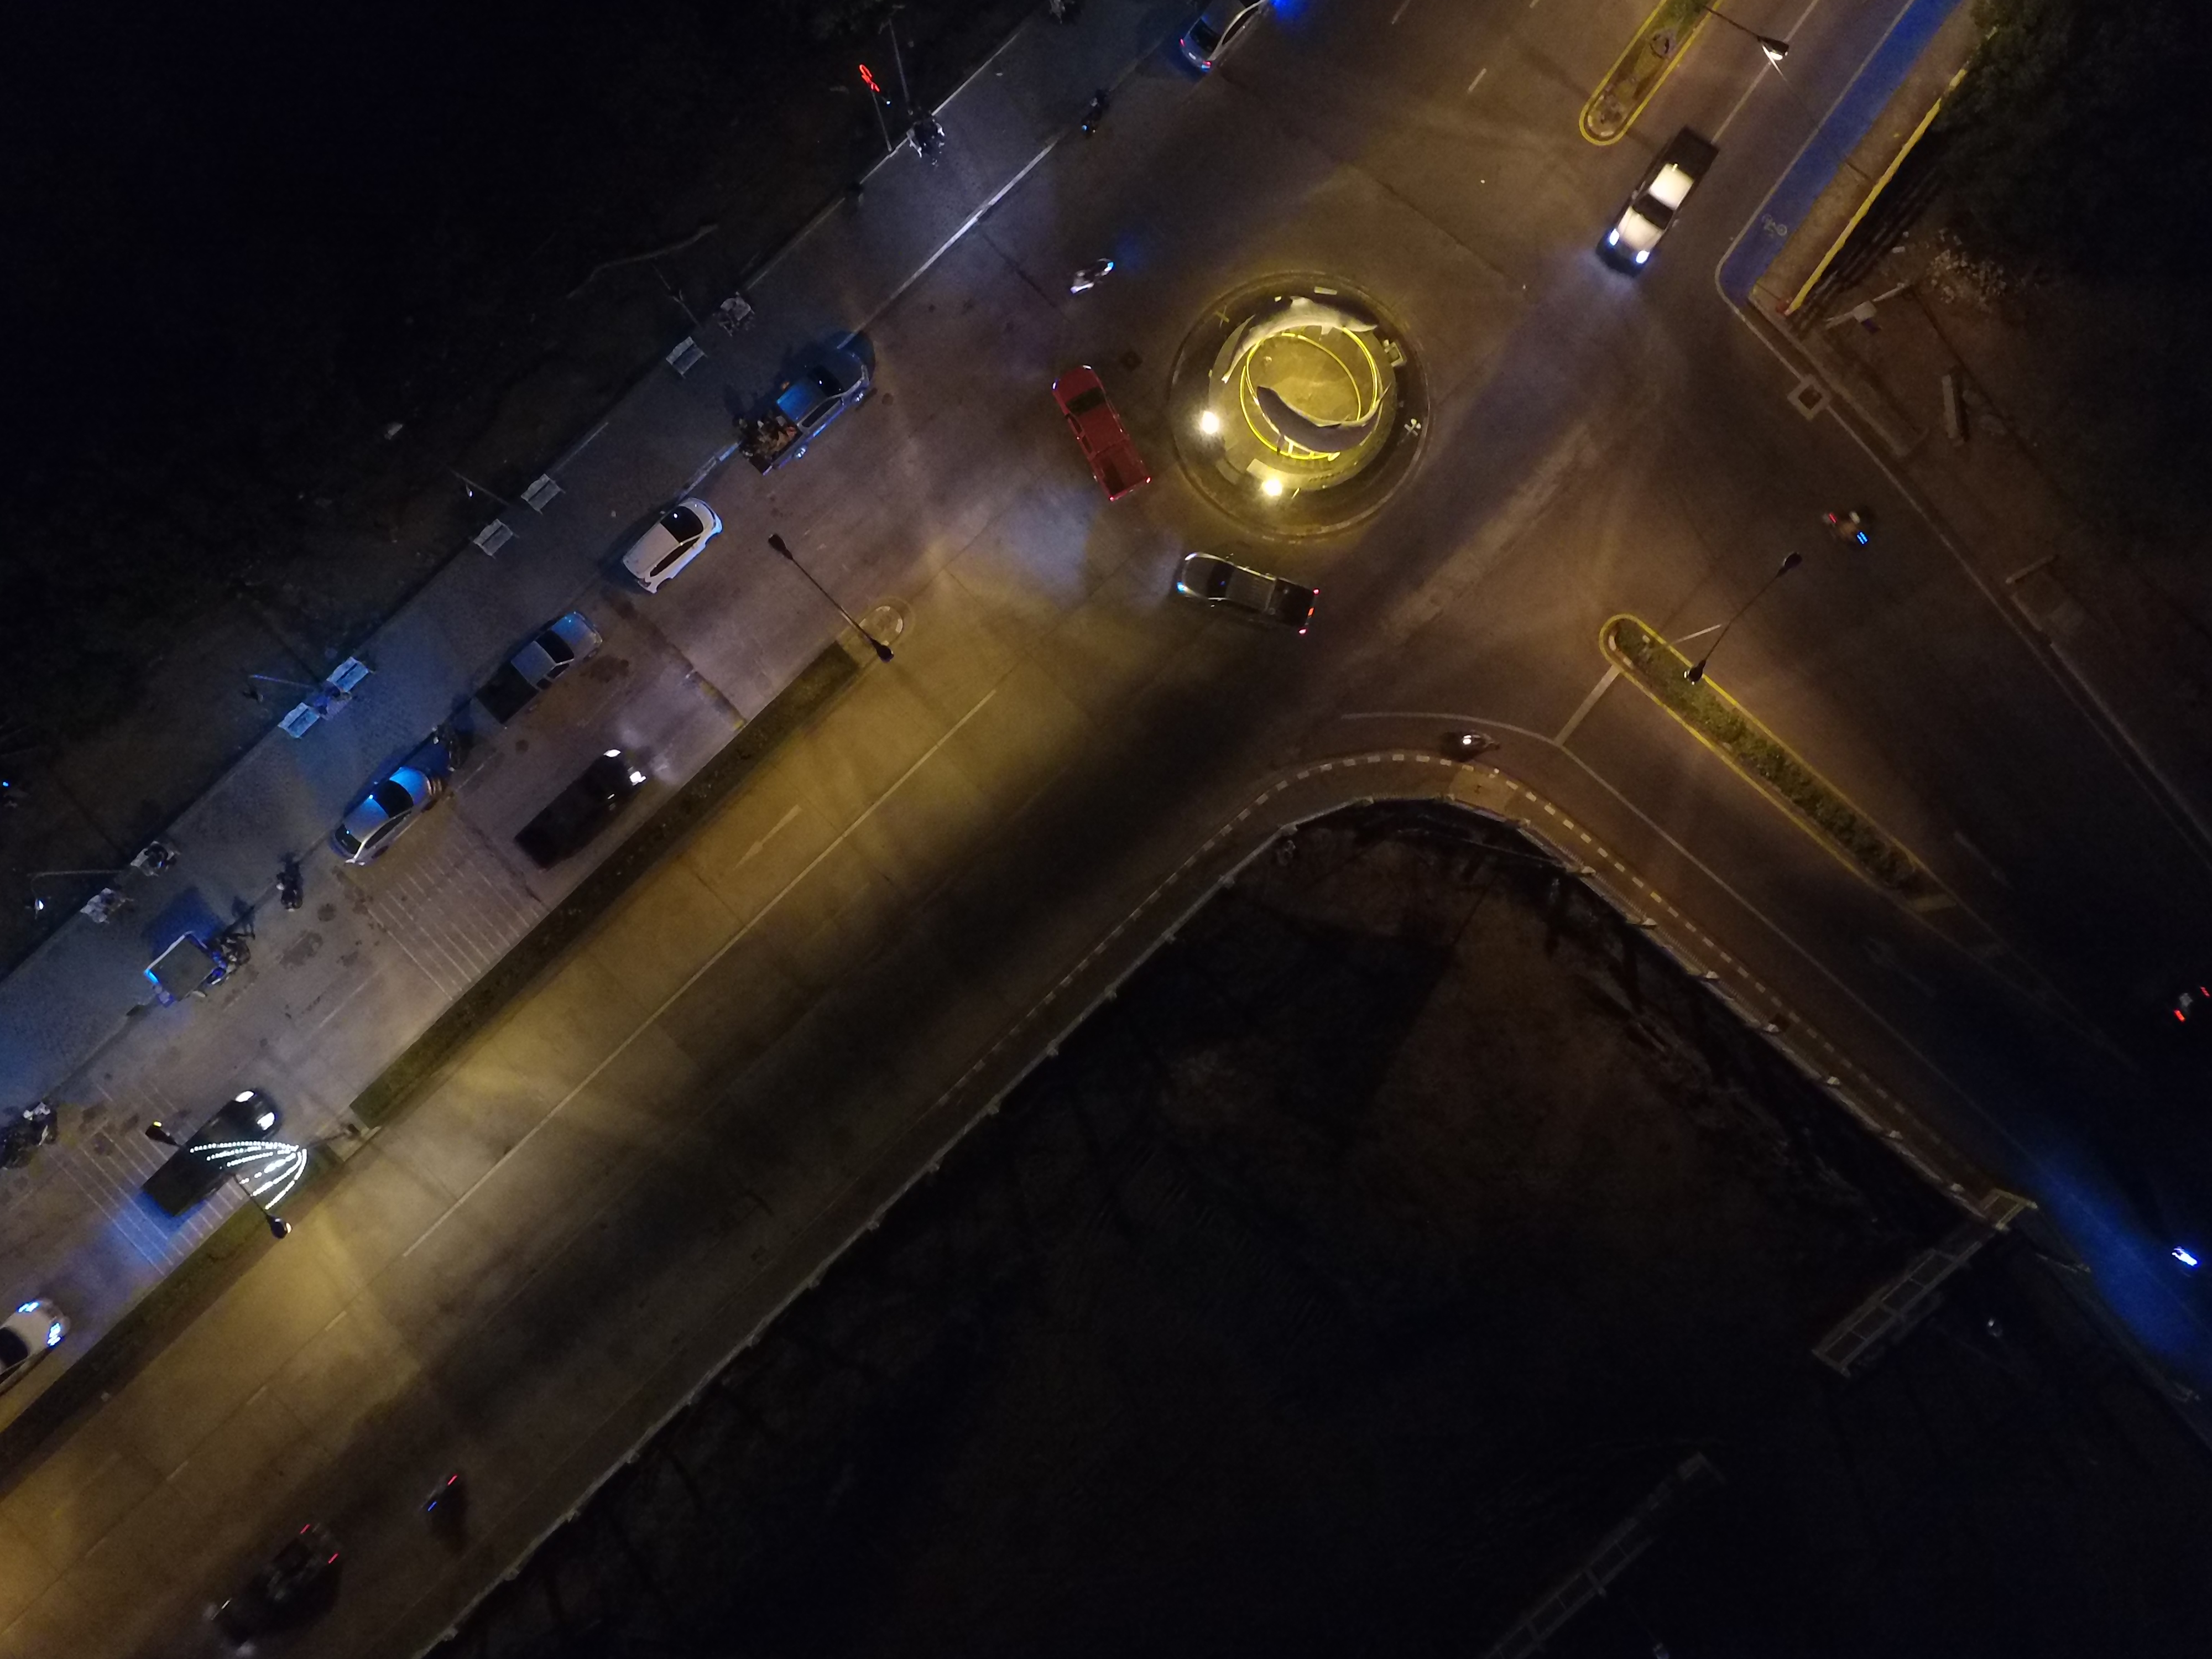car: (719, 340, 887, 472), (1028, 354, 1165, 511), (1588, 150, 1726, 305), (1151, 544, 1329, 662), (606, 484, 744, 606), (472, 603, 610, 725), (314, 744, 449, 866), (516, 744, 651, 866), (152, 1072, 287, 1194)
